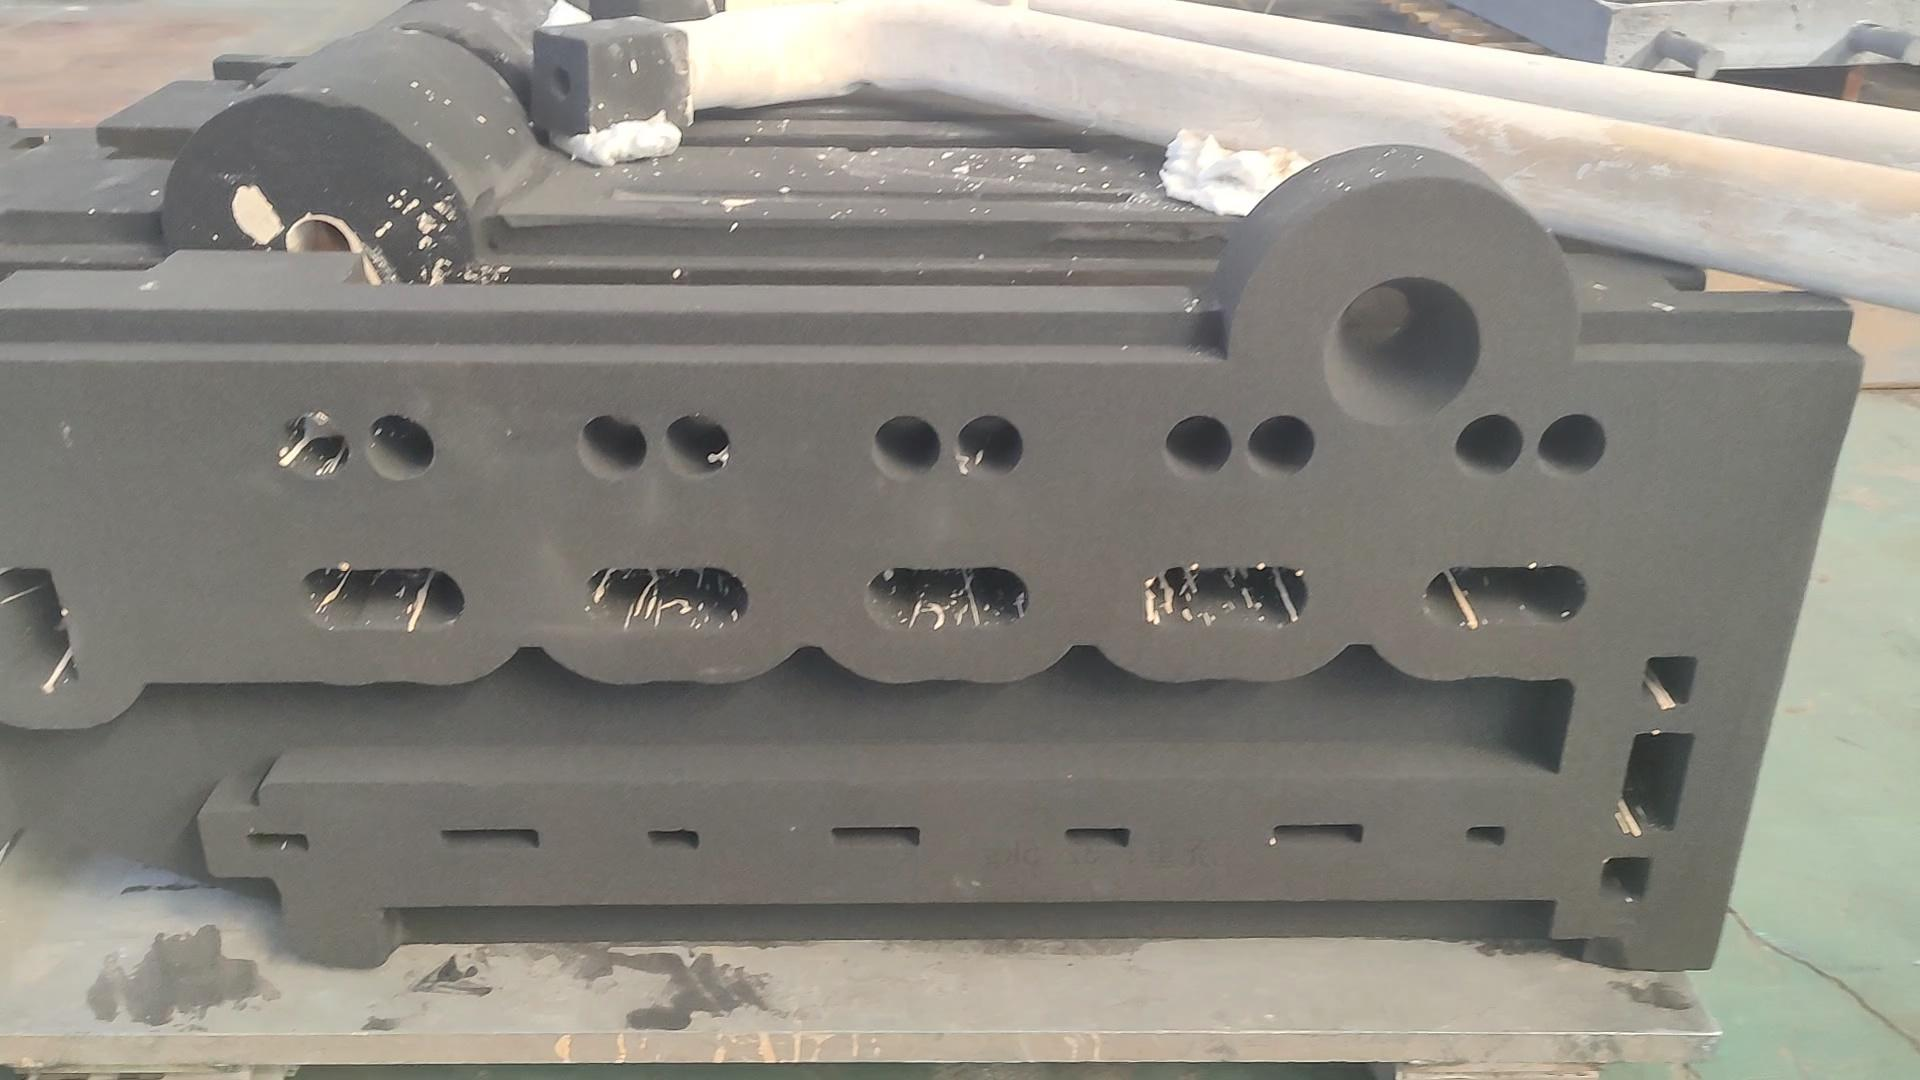pouring hole: (1327, 276, 1482, 422)
